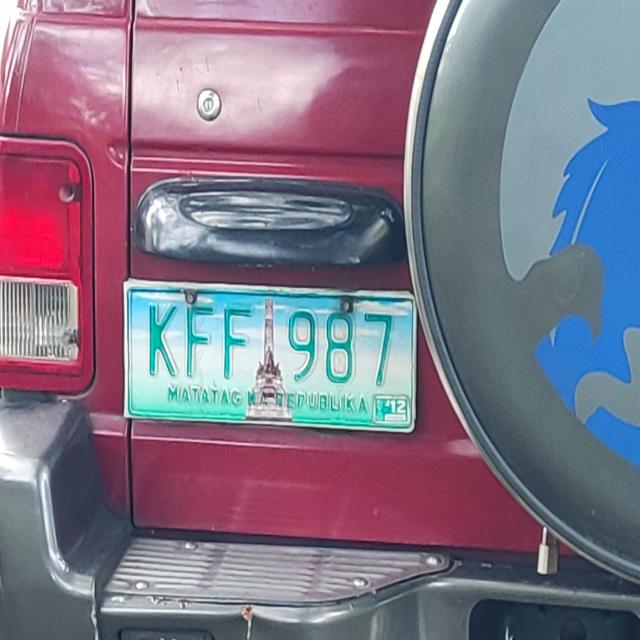plate: (120, 274, 420, 439)
